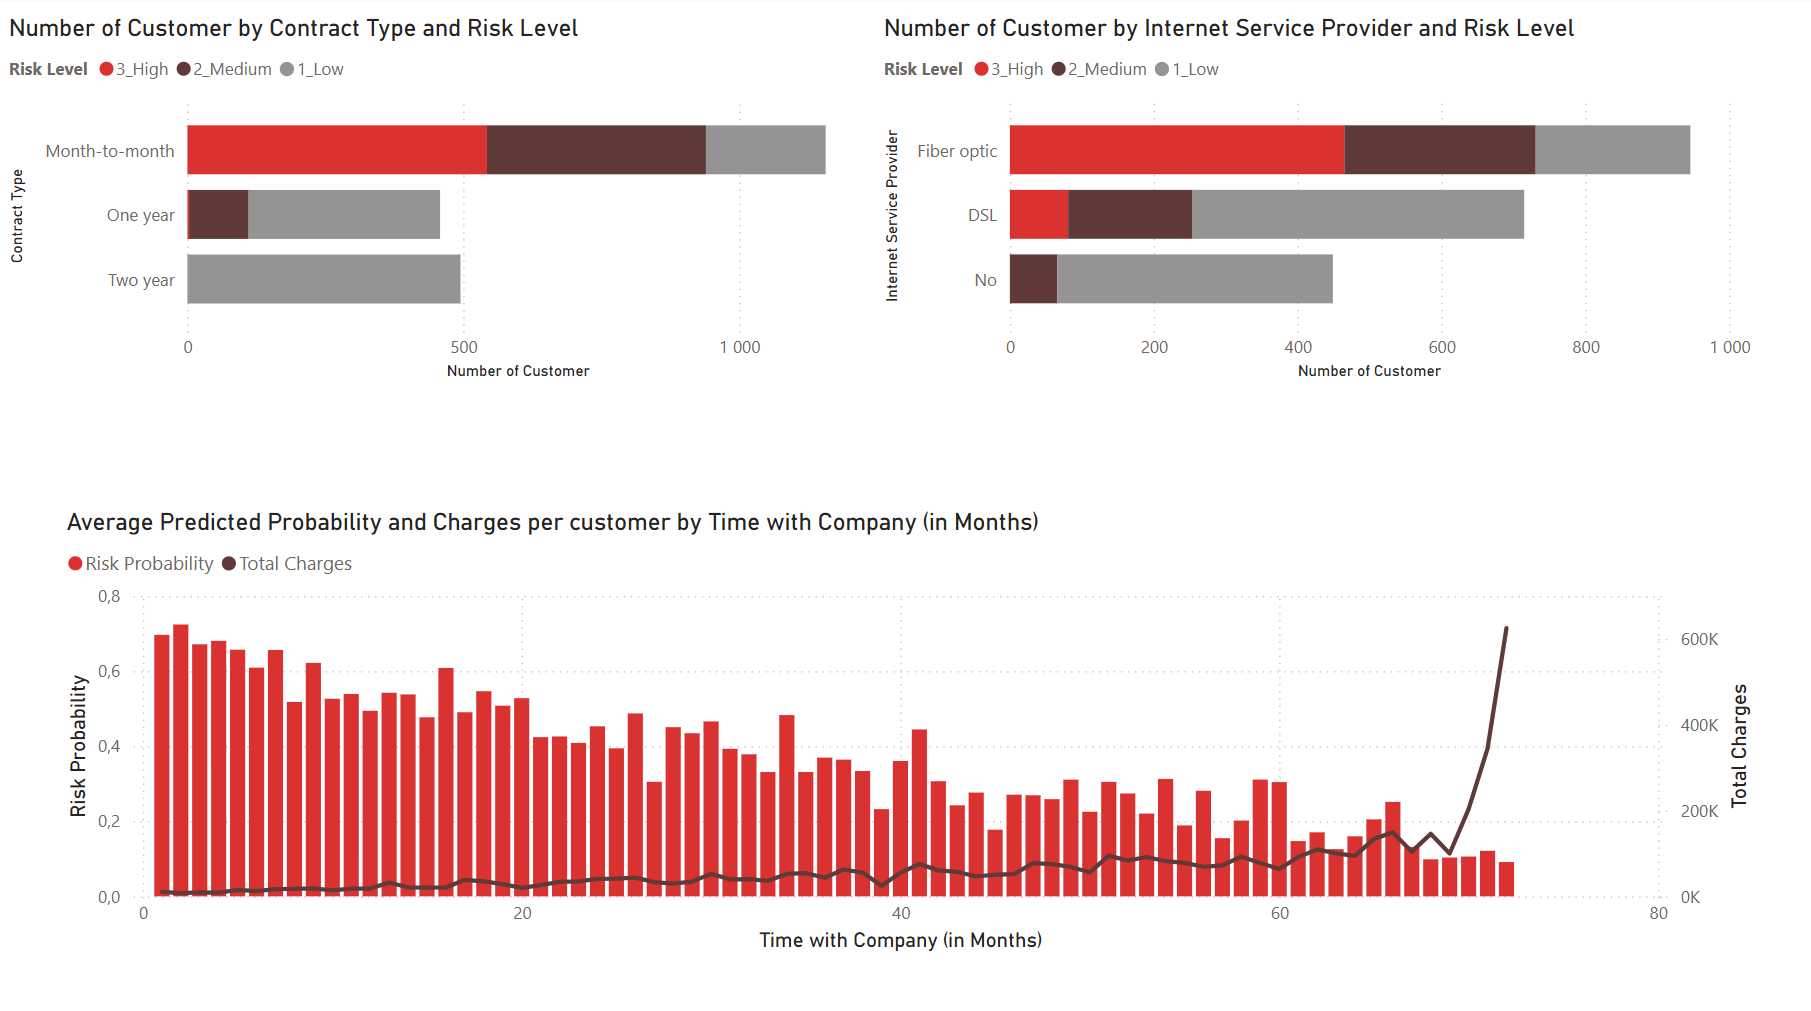

Layout of this report page (visuals, bound fields, positions):
{"tool":"powerbi","page":{"name":"Page 1","canvas":[1280,720],"ordinal":0},"visuals":[{"type":"barChart","title":"Number of Customer by Contract Type and Risk Level","fields":{"Category":["dashboard_data (2).Contract Type"],"Series":["dashboard_data (2).Risk Level"],"Y":["CountNonNull(dashboard_data (2).Customer ID)"]},"box":[1.3,14,616.5,262.4],"z":1},{"type":"lineStackedColumnComboChart","title":"Average Predicted Probability and Charges per customer by Time with Company (in Months)","fields":{"Category":["dashboard_data.Time with Company (in Months)"],"Y":["Avg(dashboard_data.Predicted Probability)"],"Y2":["Sum(dashboard_data.Total Charges)"]},"box":[42,360.5,1194.9,317.2],"z":2},{"type":"barChart","title":"Number of Customer by Internet Service Provider and Risk Level","fields":{"Category":["dashboard_data.Internet Service Provider"],"Y":["CountNonNull(dashboard_data.Customer ID)"],"Series":["dashboard_data.Risk Level"]},"box":[617,14,620,262],"z":3}]}

Visuals, with their boxes in screenshot pixels (x1, y1, x2, y2), scaled from the page's 1280x720 canvas onto the 1811x1011 screenshot:
"Number of Customer by Contract Type and Risk Level" barChart: <box>2,20,874,388</box>
"Average Predicted Probability and Charges per customer by Time with Company (in Months)" lineStackedColumnComboChart: <box>59,506,1750,952</box>
"Number of Customer by Internet Service Provider and Risk Level" barChart: <box>873,20,1750,388</box>
